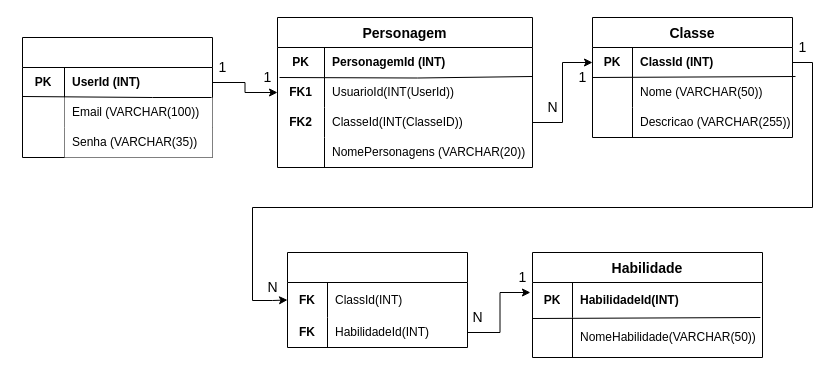
The diagram is 838 pixels wide and 375 high, and some of its shapes have lost their labels. Each missing label, with the box of its shape:
Classe / Habilidade: (286, 252, 468, 348)
Usuário: (22, 36, 212, 158)
